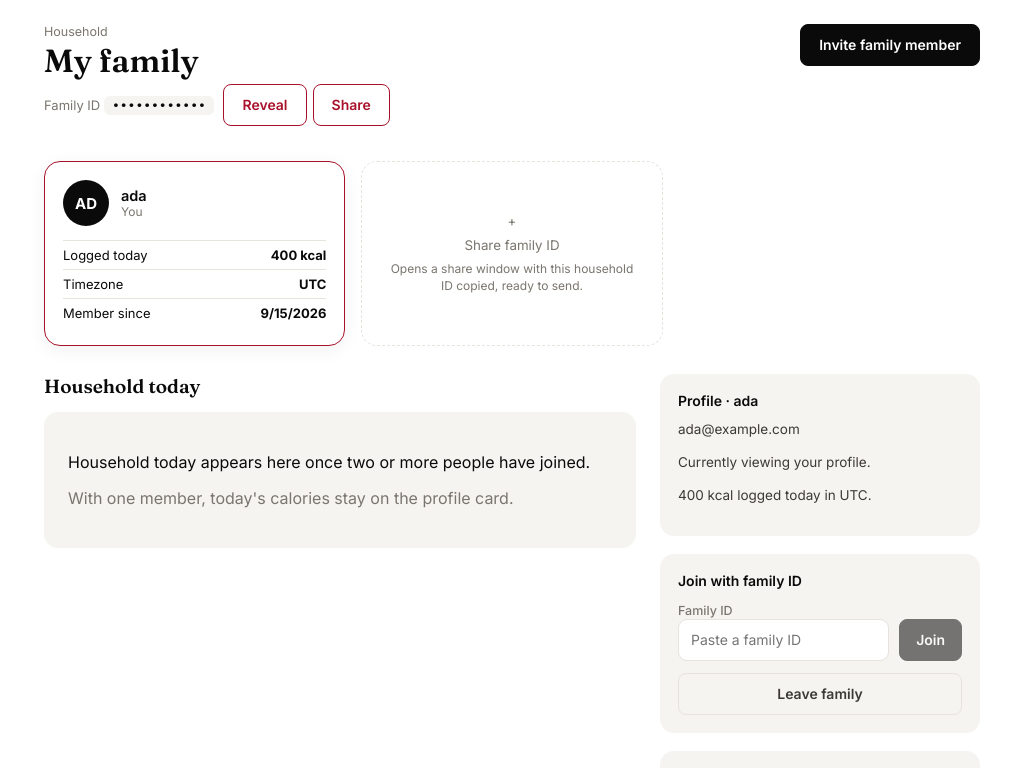
Test case: FamilyPage › opens a share window with the family ID copied to the clipboard
What coordinates should you click on to do the following:
click the button "Share family ID"
I would click on:
 (512, 254)
Its box is [361,161,663,346].
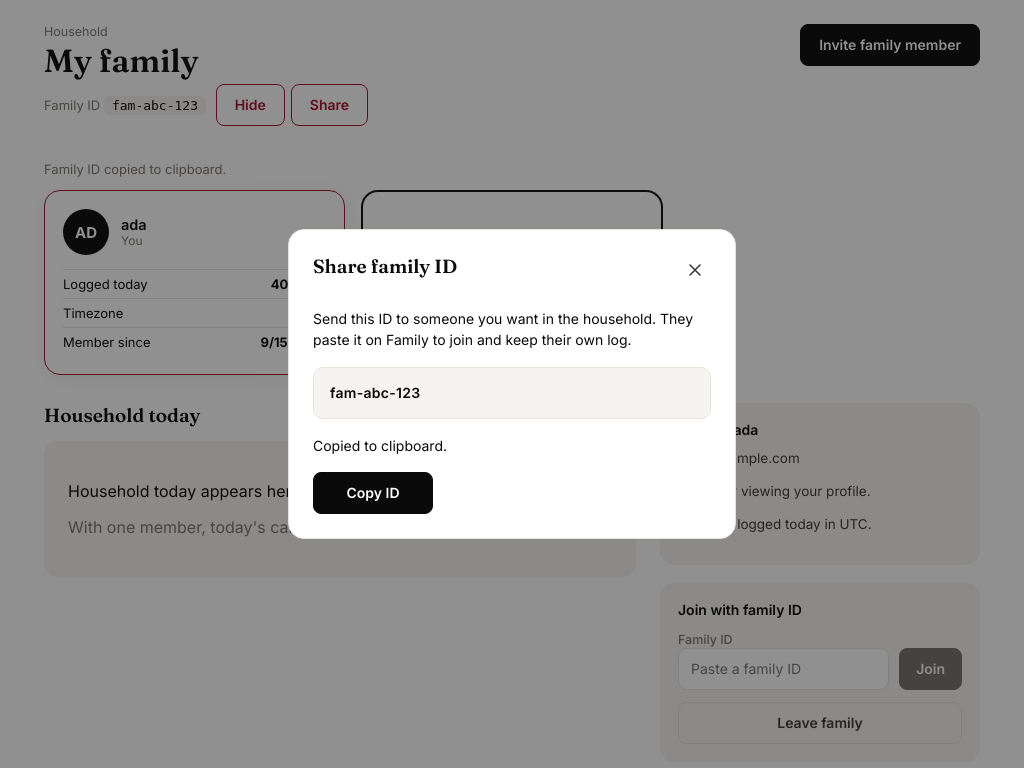
Expected: the dialog "Share family ID" shows "fam-abc-123", [330,384,420,401]
Expected: the message shows "Copied to clipboard", [313,437,447,454]
